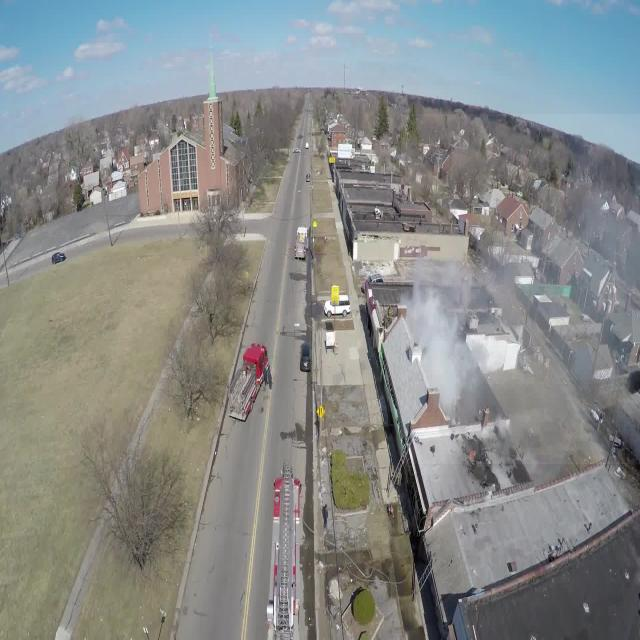Smoke: (401, 114, 640, 464)
